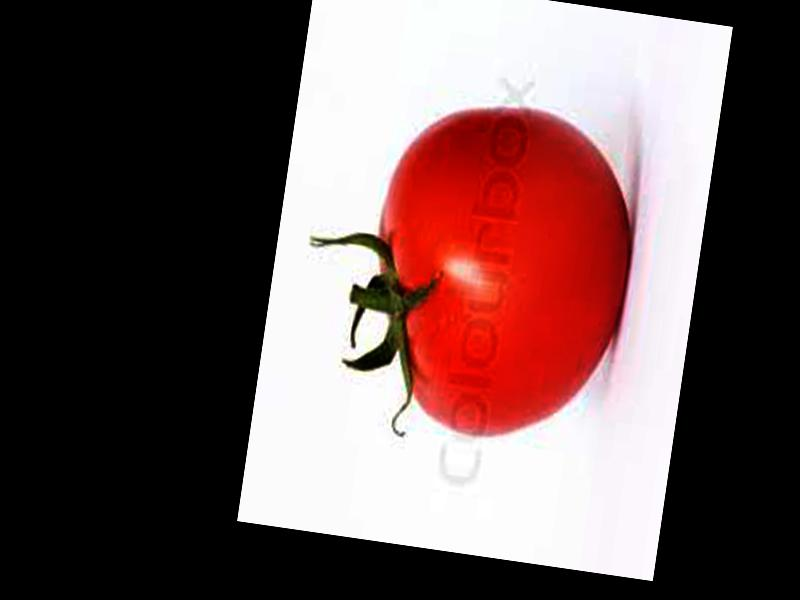Tomato: (352, 91, 645, 450)
